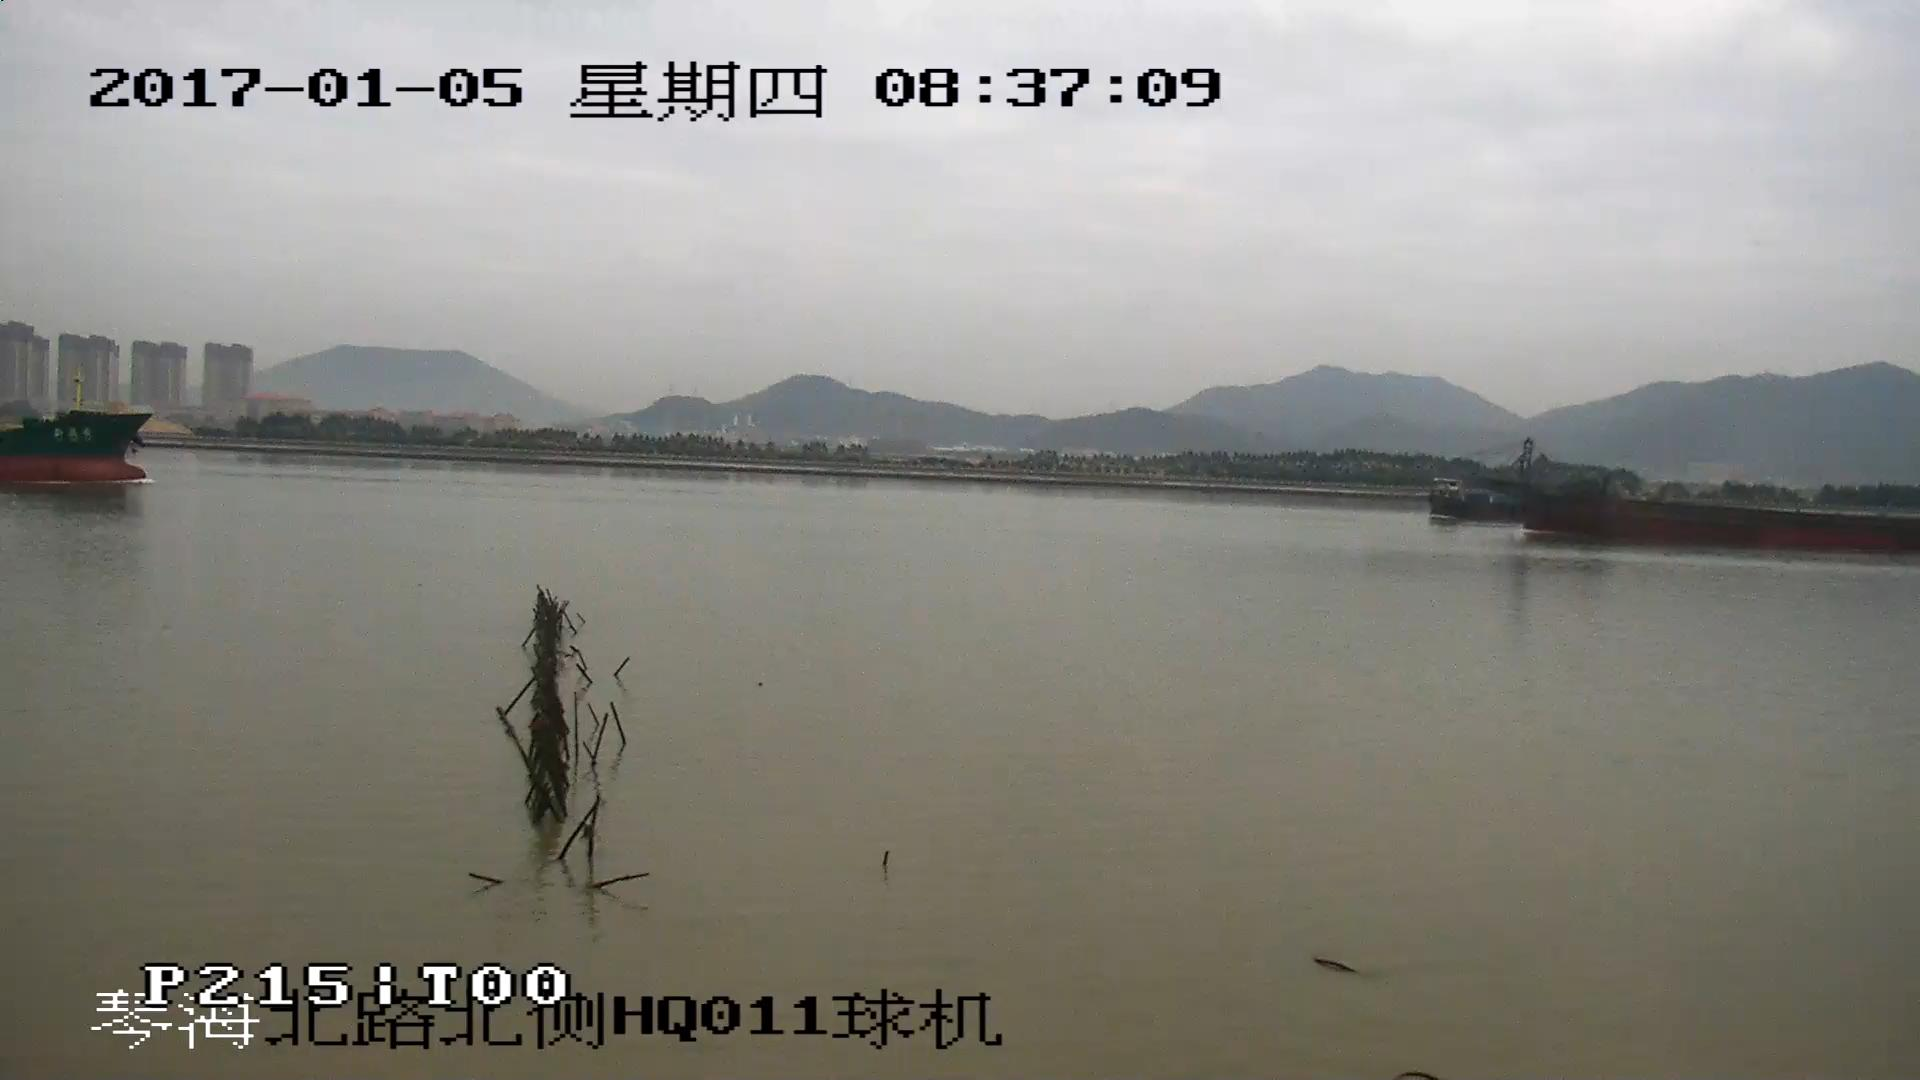bulk cargo carrier: (1441, 441, 1920, 545)
general cargo ship: (1, 382, 149, 480)
